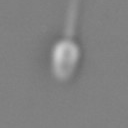normal: (54, 1, 85, 36)
